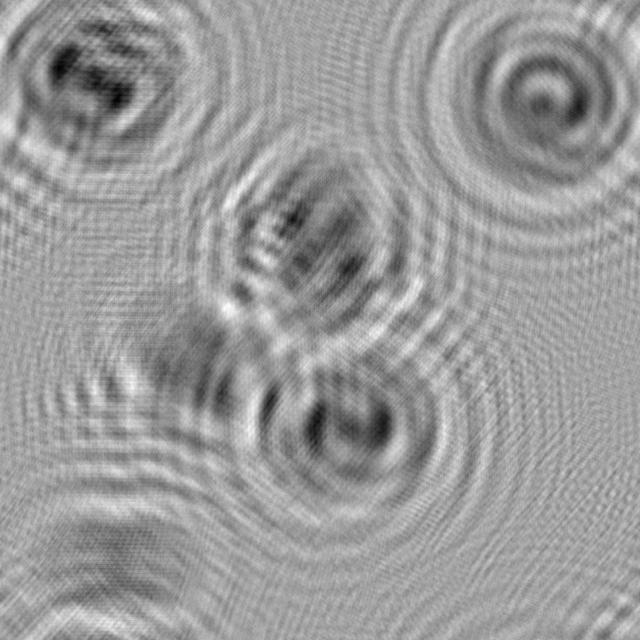B: (0, 0, 234, 214)
G: (420, 0, 640, 230)
I: (0, 463, 256, 640)
N: (194, 104, 447, 363)
S: (214, 294, 479, 558)
Y: (77, 245, 311, 481)
